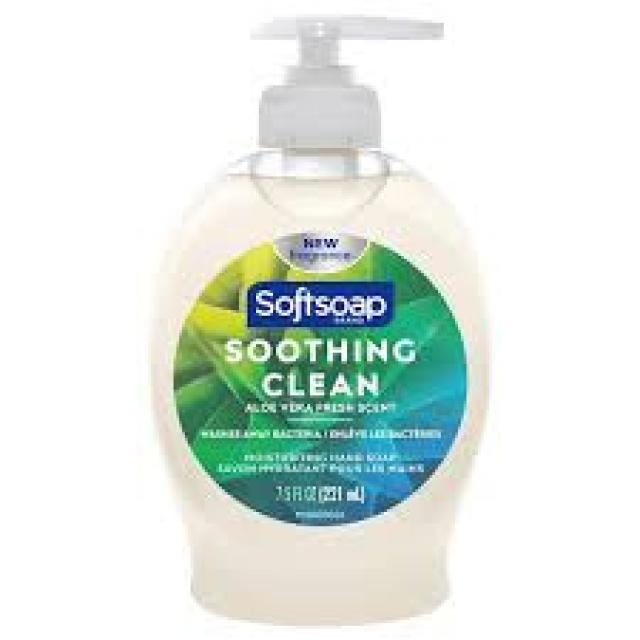liquid soap: (138, 8, 504, 624)
